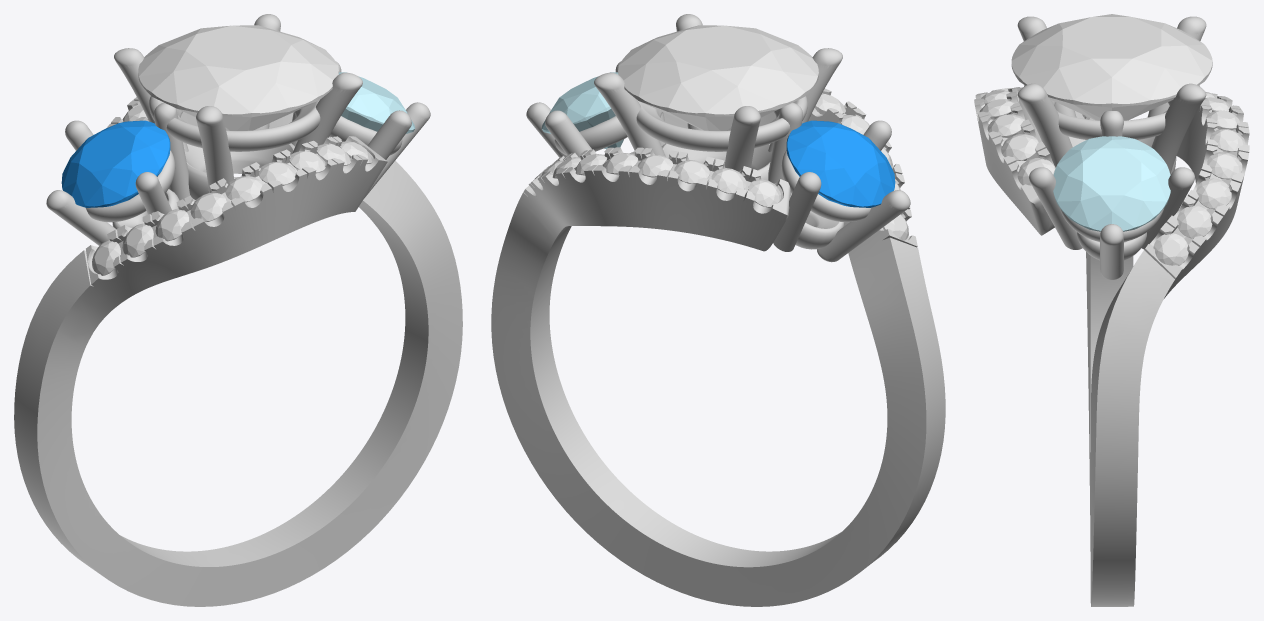
Rendered from JamesLbypass_blender.glb.
3 views of the same model, side by side, from view 1: azimuth 30°, elevation 25°; view 2: azimuth 150°, elevation 25°; view 3: azimuth 270°, elevation 25° (orthographic).
Visible parts, largest first — view 1: James PT round for 3d model, James dia for 3d model.018, James sapph round for 3d model, James aquamarine round for 3d model, James dia for 3d model.012, James dia for 3d model.011, James dia for 3d model.013, James dia for 3d model.010, James dia for 3d model.009, James dia for 3d model.014; view 2: James PT round for 3d model, James dia for 3d model.018, James sapph round for 3d model, James aquamarine round for 3d model, James dia for 3d model, James dia for 3d model.001, James dia for 3d model.002; view 3: James PT round for 3d model, James dia for 3d model.018, James aquamarine round for 3d model, James dia for 3d model.007, James dia for 3d model.008, James dia for 3d model.006, James dia for 3d model.016, James dia for 3d model.005, James dia for 3d model.015, James dia for 3d model.004, James dia for 3d model.017, James dia for 3d model.003 (+1 smaller).
Part boxes in pixels (left/top/right/bottom): James PT round for 3d model: left=14, top=14, right=462, bottom=606; James dia for 3d model.018: left=138, top=25, right=338, bottom=130; James sapph round for 3d model: left=61, top=120, right=170, bottom=207; James aquamarine round for 3d model: left=338, top=72, right=415, bottom=133; James dia for 3d model.012: left=190, top=192, right=226, bottom=221; James dia for 3d model.011: left=155, top=209, right=189, bottom=241; James dia for 3d model.013: left=225, top=176, right=262, bottom=202; James dia for 3d model.010: left=122, top=223, right=153, bottom=257; James dia for 3d model.009: left=92, top=240, right=120, bottom=275; James dia for 3d model.014: left=258, top=161, right=296, bottom=185; James PT round for 3d model: left=491, top=14, right=945, bottom=606; James dia for 3d model.018: left=618, top=25, right=818, bottom=130; James sapph round for 3d model: left=786, top=120, right=895, bottom=207; James aquamarine round for 3d model: left=541, top=72, right=623, bottom=149; James dia for 3d model: left=748, top=179, right=780, bottom=207; James dia for 3d model.001: left=711, top=168, right=746, bottom=193; James dia for 3d model.002: left=674, top=160, right=709, bottom=183; James PT round for 3d model: left=974, top=16, right=1249, bottom=606; James dia for 3d model.018: left=1011, top=14, right=1212, bottom=120; James aquamarine round for 3d model: left=1053, top=136, right=1170, bottom=231; James dia for 3d model.007: left=1177, top=205, right=1212, bottom=238; James dia for 3d model.008: left=1153, top=233, right=1188, bottom=265; James dia for 3d model.006: left=1196, top=178, right=1231, bottom=209; James dia for 3d model.016: left=1001, top=134, right=1038, bottom=160; James dia for 3d model.005: left=1207, top=152, right=1242, bottom=179; James dia for 3d model.015: left=987, top=114, right=1024, bottom=138; James dia for 3d model.004: left=1210, top=129, right=1245, bottom=152; James dia for 3d model.017: left=1017, top=158, right=1054, bottom=185; James dia for 3d model.003: left=1206, top=110, right=1241, bottom=130.
Size of the model in its own units: 21 by 25.31 by 11.59.
